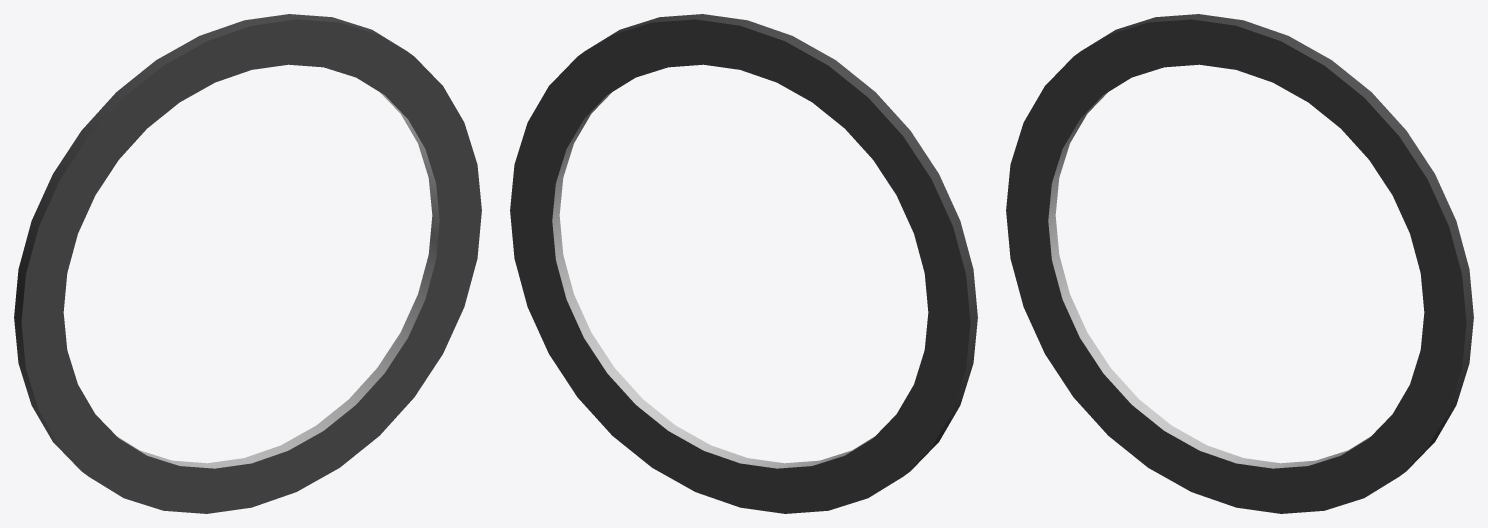
The model's file is goalup.obj.
3 views of the same model, side by side, from view 1: azimuth 30°, elevation 25°; view 2: azimuth 150°, elevation 25°; view 3: azimuth 330°, elevation 25° (orthographic).
Visible parts, largest first — view 1: 円柱.001; view 2: 円柱.001; view 3: 円柱.001.
Boxes of the visible parts, box(x1,y1,x2,y2) form: 円柱.001: box(14, 14, 481, 513); 円柱.001: box(510, 14, 977, 513); 円柱.001: box(1006, 14, 1473, 513).
Bounding box in the file's own units: 2.45 × 2.45 × 0.0682.
